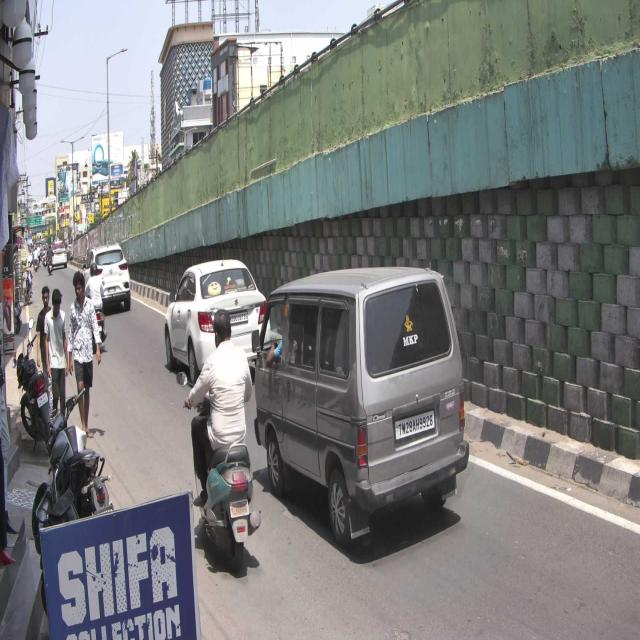single_rider: (178, 310, 260, 570)
